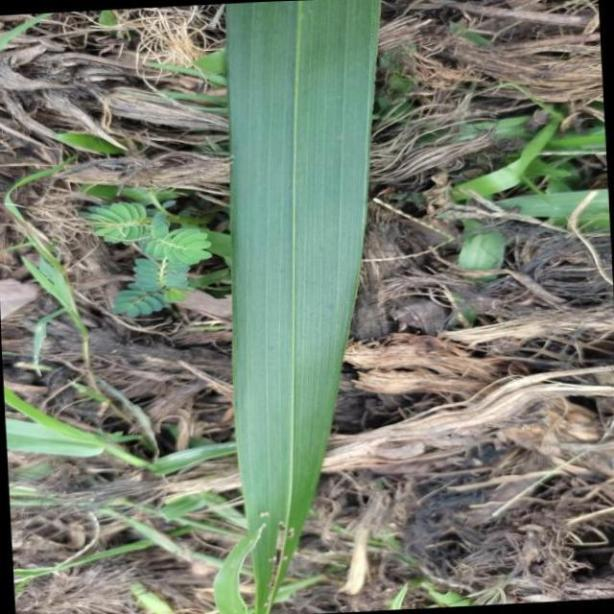Boron: (224, 0, 382, 614)
